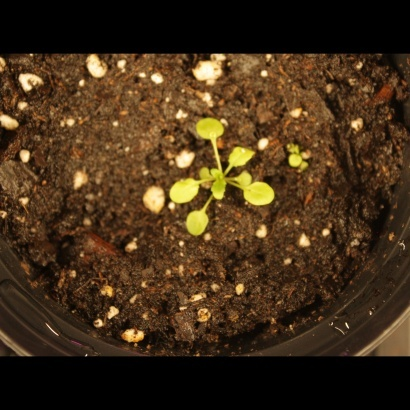leaf: (164, 174, 202, 205), (181, 206, 212, 239), (242, 181, 278, 209), (196, 114, 230, 143), (229, 141, 258, 170), (283, 145, 310, 171), (210, 180, 233, 207), (232, 166, 255, 189)
